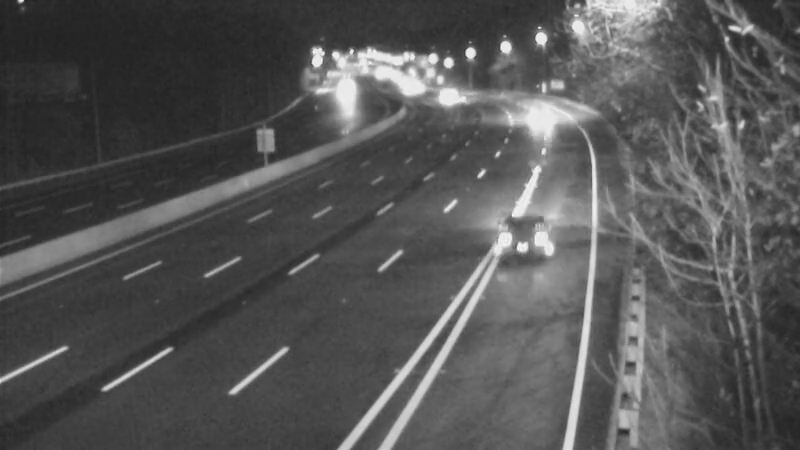vehicle: (484, 201, 564, 281), (416, 67, 466, 117), (513, 89, 563, 139), (317, 64, 367, 114)
